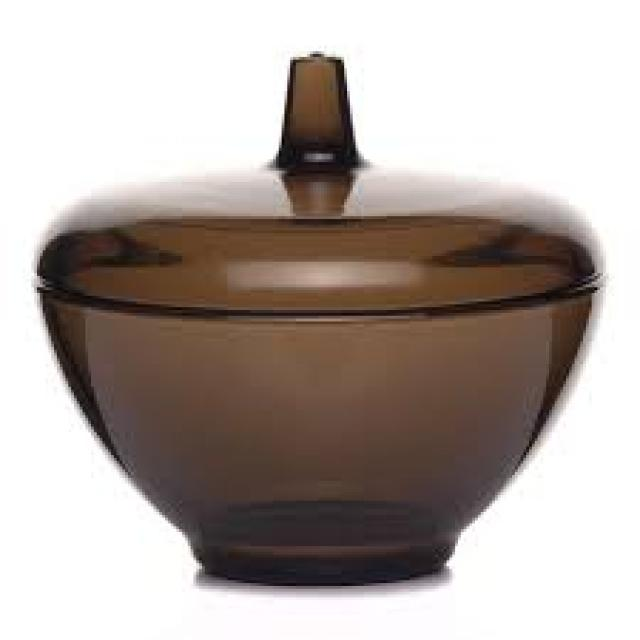glass: (28, 51, 603, 586), (37, 279, 603, 589), (31, 51, 603, 310)
